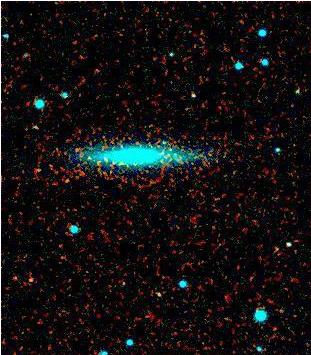star: (14, 265, 44, 295)
